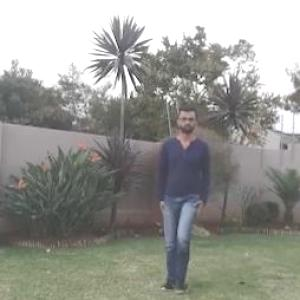follow: (156, 114, 204, 278)
